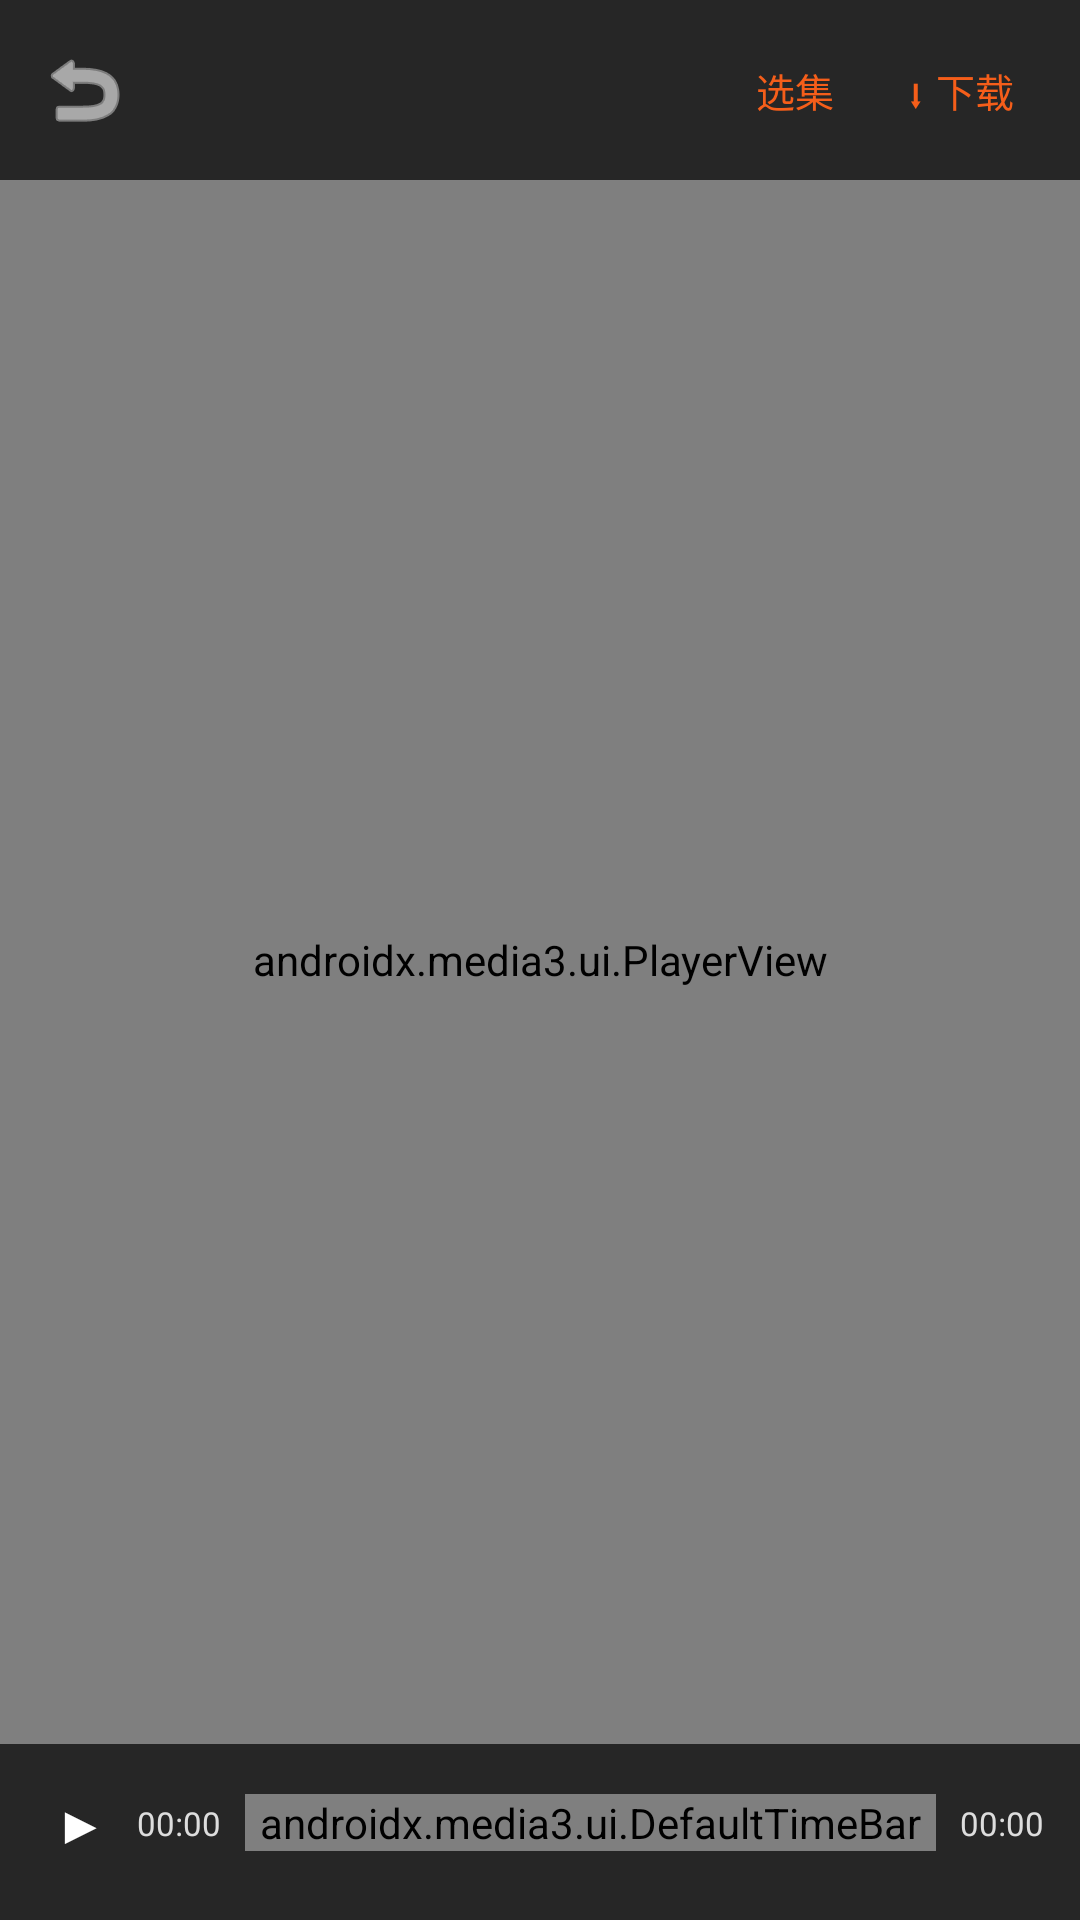

Where icons sit on this 1080 x 1920 app screen, as (x1, y1, x2, y2):
返回: (51, 59, 120, 122)
